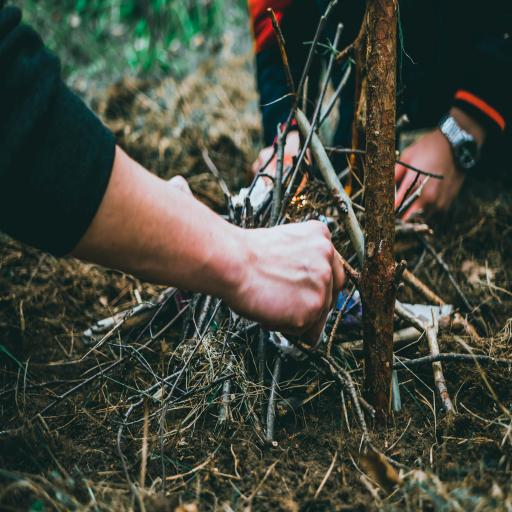campfire: (140, 45, 432, 413)
